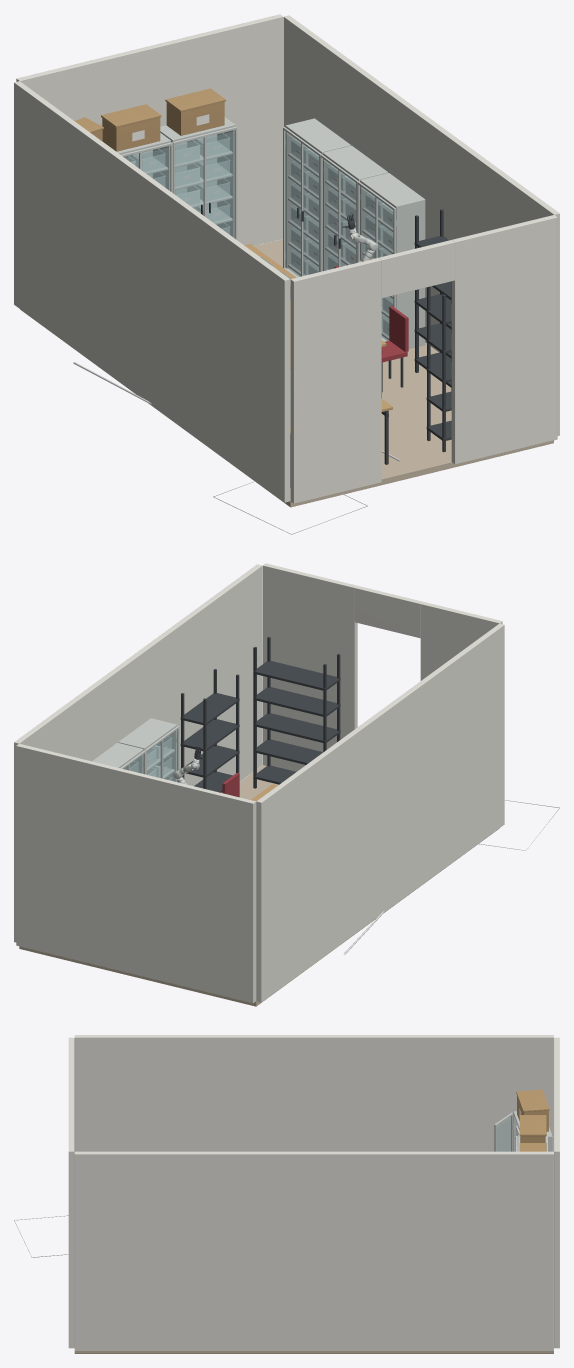
Rendered from pharmacy_workshop.glb.
The picture shows the model from 3 angles, top to bottom: view 1: azimuth 30°, elevation 25°; view 2: azimuth 150°, elevation 25°; view 3: azimuth 270°, elevation 25°; orthographic projection. The views are drawn at different scales.
Visible parts, largest first — view 1: room_left, room_front_right, room_back, room_right, room_front_left, room_floor, room_entry_header, back_cabinet_2__glass1, right_cabinet_2__side1, right_cabinet_0__glass-1, right_cabinet_0__glass1, back_cabinet_2__glass-1 (+20 smaller); view 2: room_left, room_back, room_right, room_front_right, room_front_left, room_entry_header, room_floor, dispatch_rack__rackplate3, dispatch_rack__rackplate2, dispatch_rack__rackplate4, dispatch_rack__rackplate1, side_storage_rack__rackplate4 (+7 smaller); view 3: room_right, room_left, room_back, room_front_right, room_floor, archive_1__lid, archive_0__lid, back_cabinet_0__glass-1.
Boxes of the visible parts, bbox=[...] form: room_left: bbox=[14, 81, 290, 502]; room_front_right: bbox=[451, 215, 557, 464]; room_back: bbox=[16, 14, 283, 245]; room_right: bbox=[283, 15, 559, 435]; room_front_left: bbox=[290, 258, 381, 503]; room_floor: bbox=[20, 239, 553, 507]; room_entry_header: bbox=[379, 240, 454, 298]; back_cabinet_2__glass1: bbox=[207, 132, 233, 237]; right_cabinet_2__side1: bbox=[396, 199, 425, 348]; right_cabinet_0__glass-1: bbox=[285, 132, 300, 276]; right_cabinet_0__glass1: bbox=[303, 146, 318, 275]; back_cabinet_2__glass-1: bbox=[175, 139, 202, 212]; room_left: bbox=[256, 623, 504, 1002]; room_back: bbox=[16, 743, 256, 1003]; room_right: bbox=[14, 564, 262, 942]; room_front_right: bbox=[262, 563, 357, 771]; room_front_left: bbox=[420, 602, 502, 680]; room_entry_header: bbox=[354, 586, 422, 638]; room_floor: bbox=[19, 765, 499, 1006]; dispatch_rack__rackplate3: bbox=[253, 687, 340, 717]; dispatch_rack__rackplate2: bbox=[253, 713, 340, 743]; dispatch_rack__rackplate4: bbox=[253, 661, 340, 690]; dispatch_rack__rackplate1: bbox=[253, 739, 323, 764]; side_storage_rack__rackplate4: bbox=[180, 693, 239, 725]; room_right: bbox=[74, 1151, 553, 1350]; room_left: bbox=[74, 1035, 553, 1151]; room_back: bbox=[554, 1037, 559, 1348]; room_front_right: bbox=[68, 1107, 74, 1348]; room_floor: bbox=[74, 1351, 553, 1353]; archive_1__lid: bbox=[519, 1115, 546, 1136]; archive_0__lid: bbox=[516, 1089, 549, 1112]; back_cabinet_0__glass-1: bbox=[497, 1117, 510, 1151].
Bounding box in the file's own units: 4.41 × 2.98 × 7.29.
